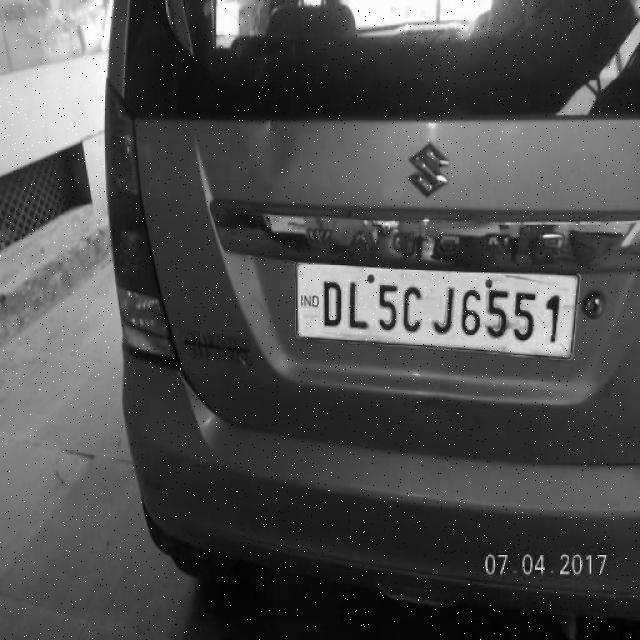car damage: (246, 127, 299, 175)
